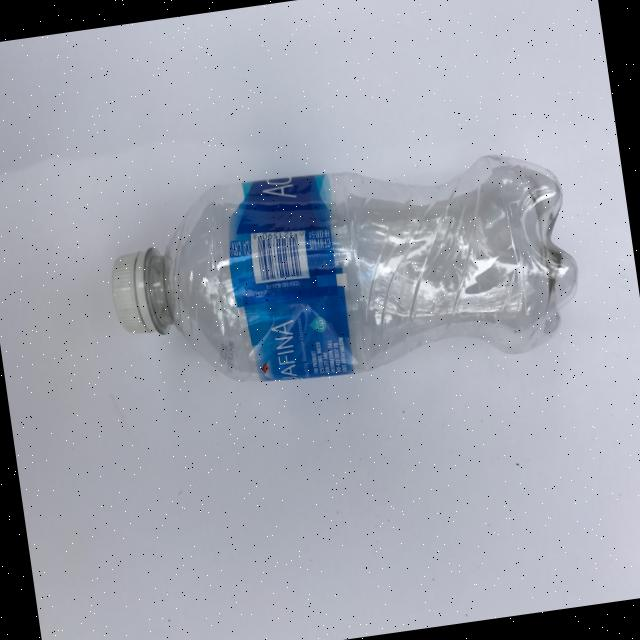plastic: (99, 136, 588, 410)
